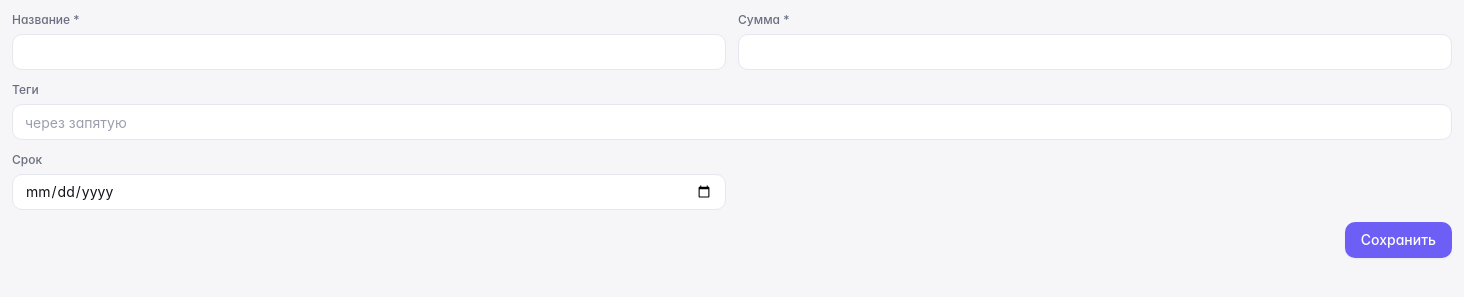
Test case: EntityForm › blocks invalid submit and shows field errors
The image size is (1464, 297).
Click the button "Сохранить": (1398, 240) [1345,222,1452,258]
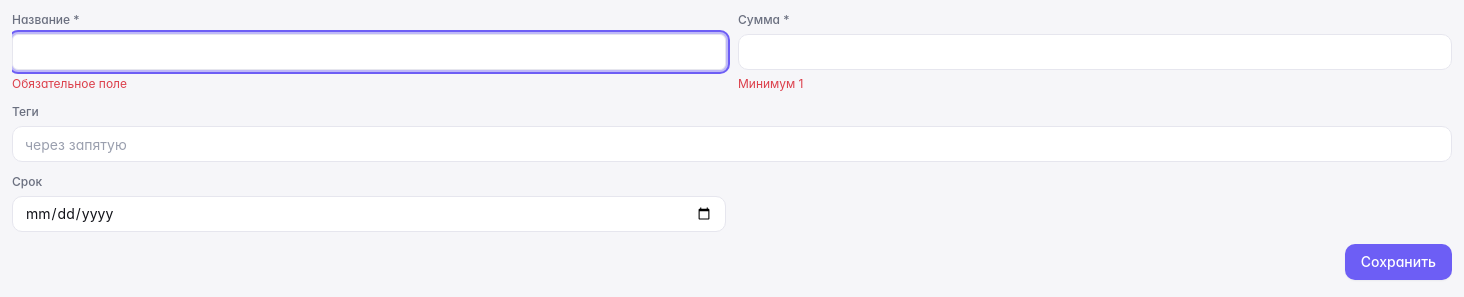
expect the text "Обязательное поле" is shown: met, box [12,76,127,91]
